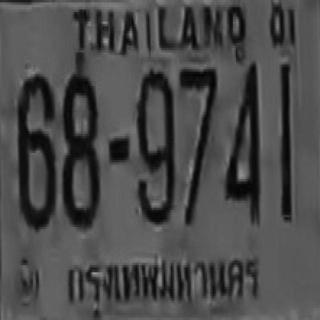N00: (136, 69, 174, 222)
N01: (280, 58, 291, 221), (280, 61, 291, 214)
N04: (224, 61, 259, 221)
N06: (15, 72, 54, 227)
N07: (178, 67, 216, 222)
N08: (62, 70, 98, 226)
N09: (136, 69, 174, 222)
P04: (63, 250, 265, 312)
